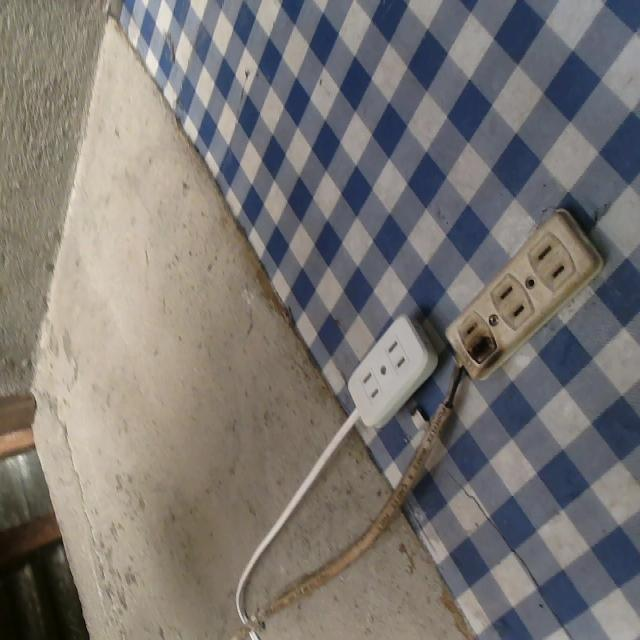-: (466, 323, 499, 373)
